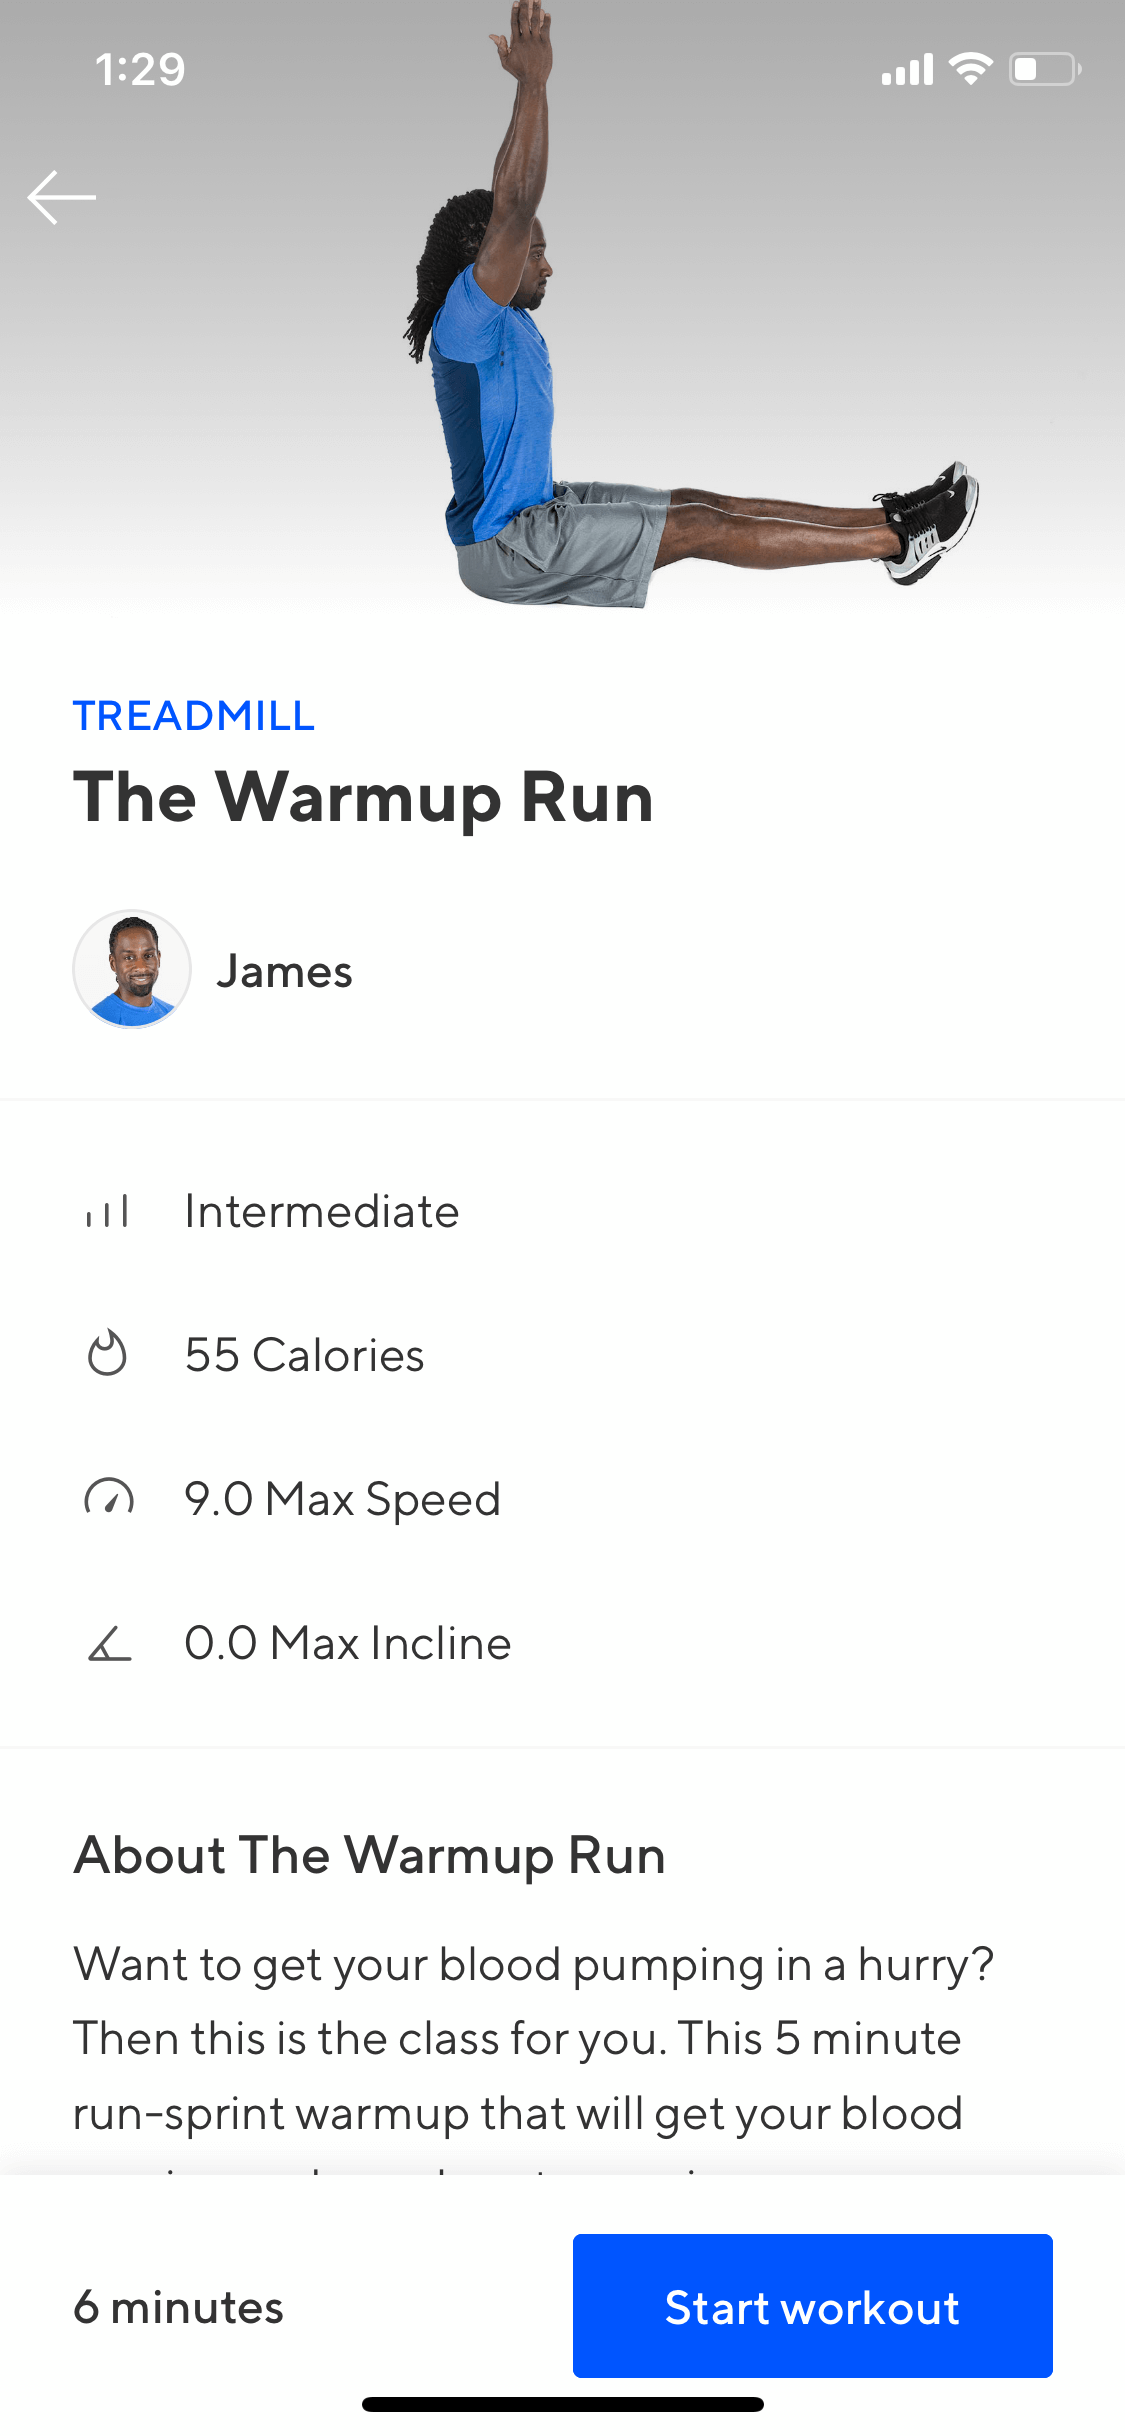Buttons: (552, 2212, 1064, 2391), (2, 137, 123, 249)
